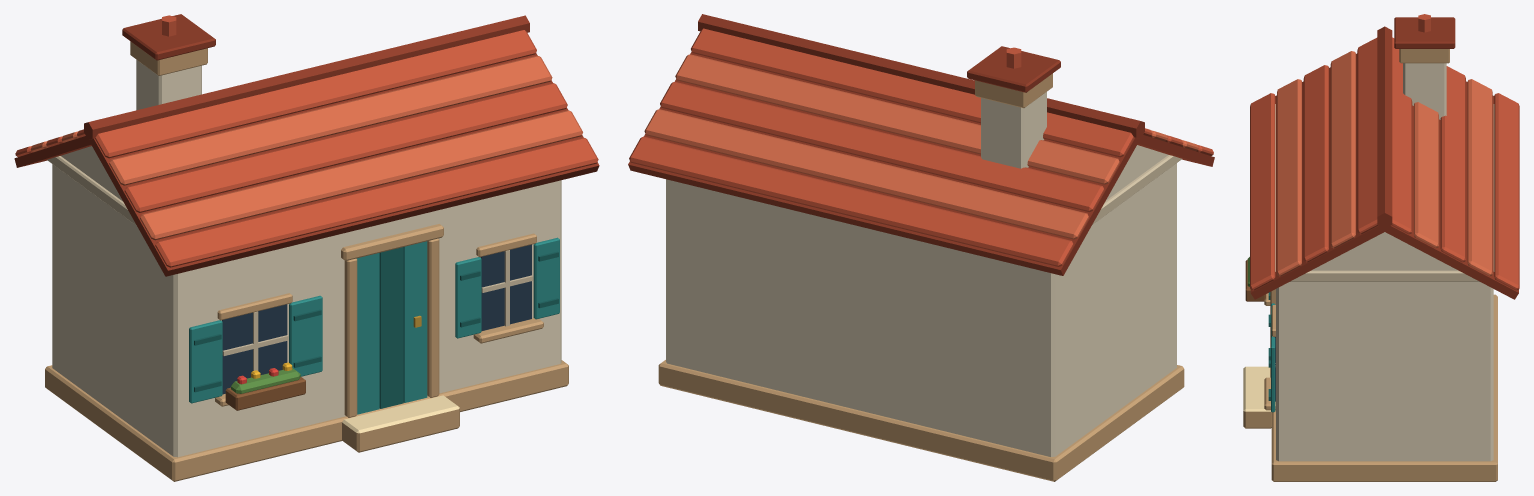
Rendered from house_c.glb.
The picture shows the model from 3 angles, left to right: view 1: azimuth 30°, elevation 25°; view 2: azimuth 150°, elevation 25°; view 3: azimuth 270°, elevation 25°; orthographic projection. The views are drawn at different scales.
Parts seen in each view (by area): view 1: house_c; view 2: house_c; view 3: house_c.
Boxes of the visible parts, bbox=[...] form: house_c: bbox=[14, 14, 599, 481]; house_c: bbox=[628, 14, 1214, 481]; house_c: bbox=[1243, 14, 1519, 481].
Bounding box in the file's own units: 6.08 × 5.05 × 3.81.
Materials: 1 (1 with a texture image).
